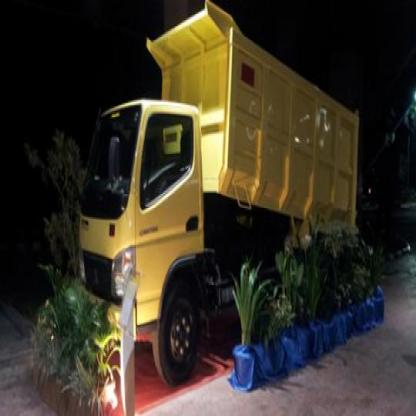truck: (81, 7, 361, 383)
